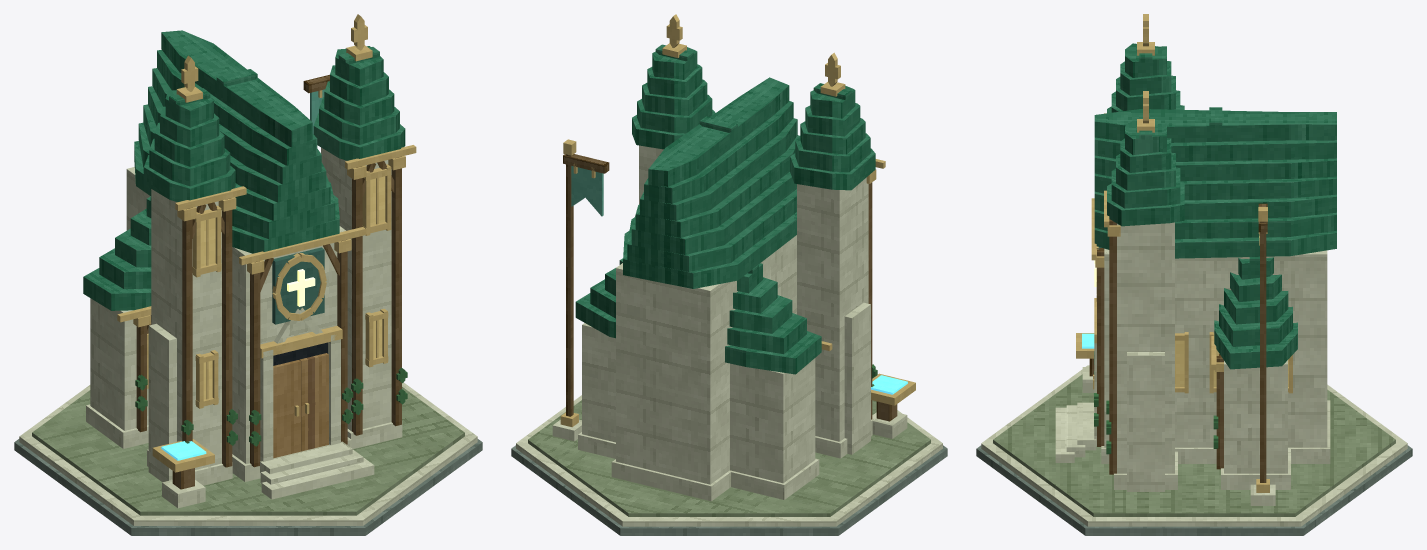
File: elf_sacred_ritual_hex_v1.glb
3 views of the same model, side by side, from view 1: azimuth 30°, elevation 25°; view 2: azimuth 150°, elevation 25°; view 3: azimuth 270°, elevation 25° (orthographic). The views are drawn at different scales.
Visible parts, largest first — view 1: Elf_Sacred_Ritual_Hex_V1_Hall, Elf_Sacred_Ritual_Hex_V1_Roofs, Elf_Sacred_Ritual_Hex_V1_Foundation, Elf_Sacred_Ritual_Hex_V1_Details, Elf_Sacred_Ritual_Hex_V1_Courtyard, Elf_Sacred_Ritual_Hex_V1_Focus, Elf_Sacred_Ritual_Hex_V1_Training, Elf_Sacred_Ritual_Hex_V1_Faction; view 2: Elf_Sacred_Ritual_Hex_V1_Hall, Elf_Sacred_Ritual_Hex_V1_Roofs, Elf_Sacred_Ritual_Hex_V1_Foundation, Elf_Sacred_Ritual_Hex_V1_Faction, Elf_Sacred_Ritual_Hex_V1_Training, Elf_Sacred_Ritual_Hex_V1_Details; view 3: Elf_Sacred_Ritual_Hex_V1_Roofs, Elf_Sacred_Ritual_Hex_V1_Hall, Elf_Sacred_Ritual_Hex_V1_Foundation, Elf_Sacred_Ritual_Hex_V1_Details, Elf_Sacred_Ritual_Hex_V1_Faction, Elf_Sacred_Ritual_Hex_V1_Courtyard, Elf_Sacred_Ritual_Hex_V1_Training.
Part boxes in pixels (box(x1,y1,x2,y2)): Elf_Sacred_Ritual_Hex_V1_Hall: box(86, 147, 402, 485); Elf_Sacred_Ritual_Hex_V1_Roofs: box(83, 14, 416, 322); Elf_Sacred_Ritual_Hex_V1_Foundation: box(14, 382, 482, 535); Elf_Sacred_Ritual_Hex_V1_Details: box(133, 156, 407, 467); Elf_Sacred_Ritual_Hex_V1_Courtyard: box(260, 441, 374, 499); Elf_Sacred_Ritual_Hex_V1_Focus: box(272, 247, 326, 324); Elf_Sacred_Ritual_Hex_V1_Training: box(152, 439, 214, 508); Elf_Sacred_Ritual_Hex_V1_Faction: box(303, 74, 329, 133); Elf_Sacred_Ritual_Hex_V1_Hall: box(578, 145, 872, 501); Elf_Sacred_Ritual_Hex_V1_Roofs: box(575, 14, 885, 374); Elf_Sacred_Ritual_Hex_V1_Foundation: box(511, 395, 947, 535); Elf_Sacred_Ritual_Hex_V1_Faction: box(552, 139, 609, 441); Elf_Sacred_Ritual_Hex_V1_Training: box(871, 373, 915, 438); Elf_Sacred_Ritual_Hex_V1_Details: box(866, 169, 877, 419); Elf_Sacred_Ritual_Hex_V1_Roofs: box(1091, 14, 1336, 370); Elf_Sacred_Ritual_Hex_V1_Hall: box(1094, 222, 1330, 491); Elf_Sacred_Ritual_Hex_V1_Foundation: box(976, 365, 1412, 535); Elf_Sacred_Ritual_Hex_V1_Details: box(1093, 219, 1292, 474); Elf_Sacred_Ritual_Hex_V1_Faction: box(1250, 203, 1275, 505); Elf_Sacred_Ritual_Hex_V1_Courtyard: box(1055, 402, 1096, 462); Elf_Sacred_Ritual_Hex_V1_Training: box(1076, 333, 1094, 392).
Size of the model in its own units: 1.59 by 1.88 by 1.84.
Materials: 1 (1 with a texture image).
